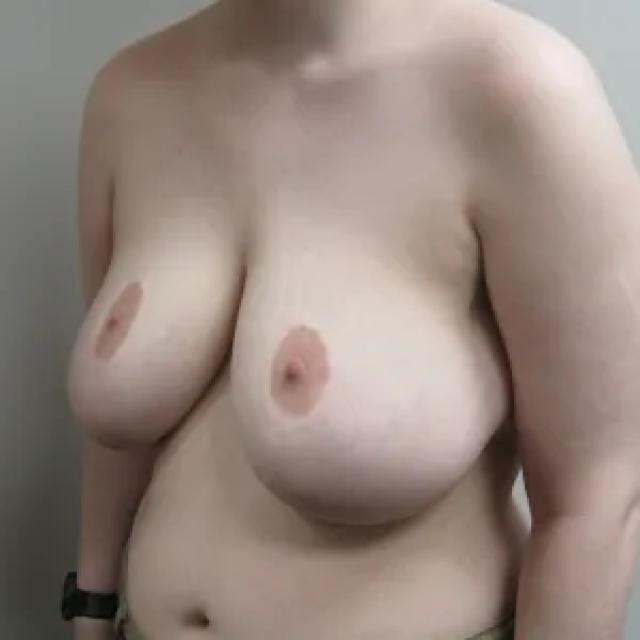Seno ileso: (228, 213, 516, 550), (59, 204, 229, 466)
